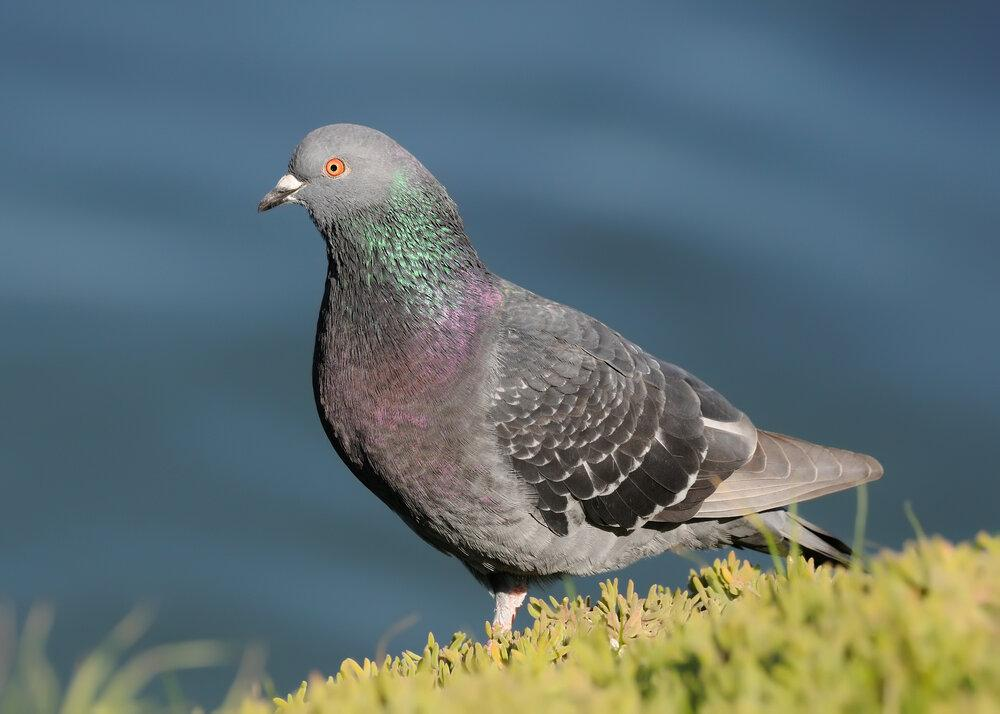Flying Rat: (255, 122, 900, 649)
